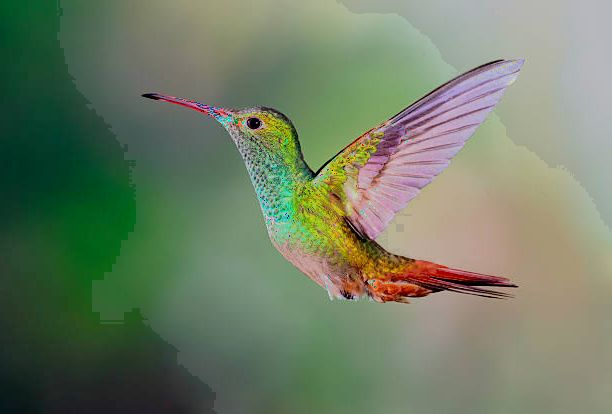Bird: (134, 55, 548, 322)
